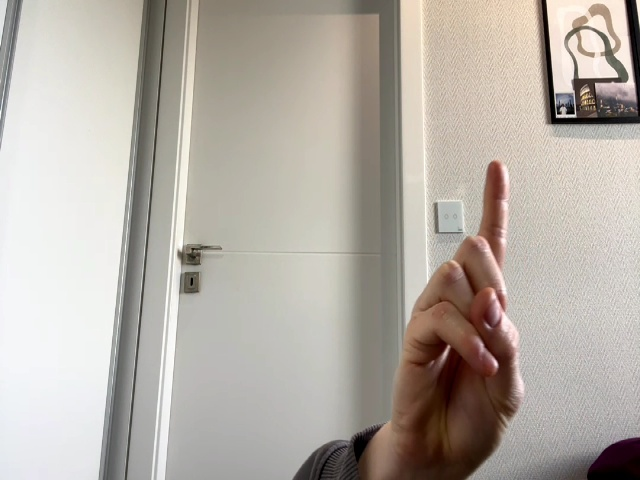Z: (389, 160, 524, 477)
